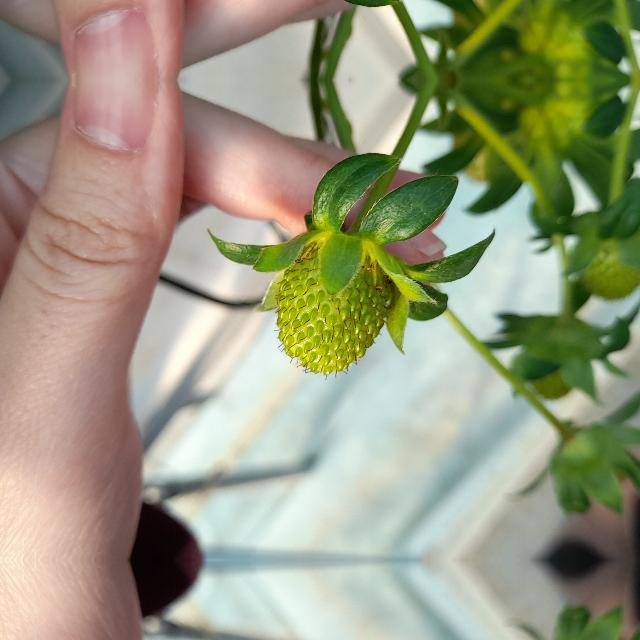Health_25: (273, 242, 389, 380)
